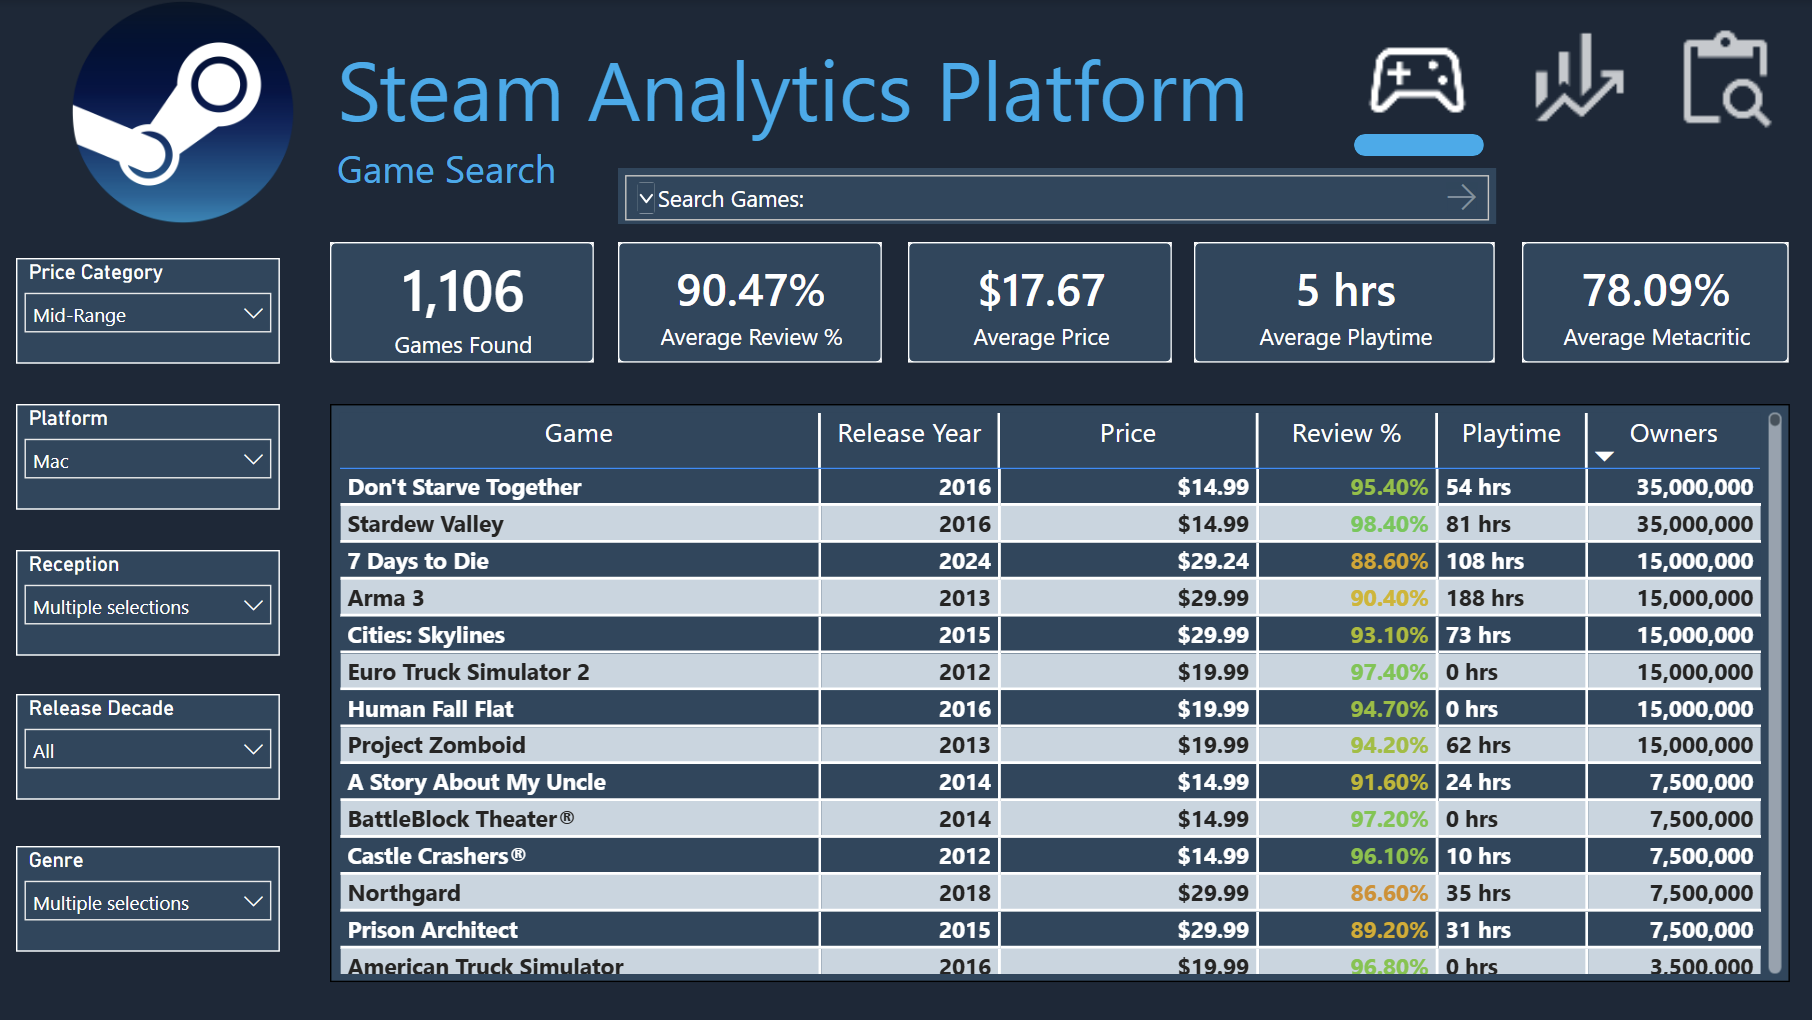

The dashboard page shown, as its layout file describes it:
{"tool":"powerbi","page":{"name":"Game Search","canvas":[1280,720],"ordinal":0},"visuals":[{"type":"textbox","box":[232.6,16.9,1022,142.4],"z":0},{"type":"slicer","fields":{"Values":["games_gold.price_bucket"]},"box":[11.3,170.6,186.1,74.7],"z":1000},{"type":"slicer","fields":{"Values":["games_gold.release_decade"]},"box":[11.3,506.1,186.1,74.7],"z":2000},{"type":"slicer","fields":{"Values":["games_gold.playtime_bucket"]},"box":[11.3,617.4,186.1,74.7],"z":3000},{"type":"slicer","fields":{"Values":["games_gold.review_category"]},"box":[11.3,397.5,186.1,74.7],"z":4000},{"type":"slicer","fields":{"Values":["platforms.Platform"]},"box":[11.3,284.8,186.1,74.7],"z":5000},{"type":"cardVisual","fields":{"Data":["games_gold.Games Found"]},"box":[232.6,170.6,186.1,86],"z":6000},{"type":"cardVisual","fields":{"Data":["games_gold.Average Review %"]},"box":[435.6,170.6,186.1,86],"z":7000},{"type":"cardVisual","fields":{"Data":["games_gold.Average Price"]},"box":[640,170.6,186.1,86],"z":8000},{"type":"cardVisual","fields":{"Data":["games_gold.Average Playtime (hrs)"]},"box":[841.6,170.6,212.9,86],"z":9000},{"type":"cardVisual","fields":{"Data":["games_gold.Average Metacritic"]},"box":[1072.8,170.6,188.9,86],"z":10000},{"type":"image","box":[0,0,258,157.9],"z":11000},{"type":"tableEx","fields":{"Values":["games_gold.game_name","games_gold.price","games_gold.Average Review %","games_gold.Average Playtime (hrs)","games_gold.release_year","games_gold.estimated_owner_midpoint"]},"box":[232.6,284.8,1029.1,407.4],"z":12000},{"type":"textSlicer","fields":{"Values":["games_gold.game_name"]},"box":[435.6,118.4,618.9,39.5],"z":12001},{"type":"image","box":[960,16.9,78,78.9],"z":12002},{"type":"image","box":[1072.8,16.9,78,78],"z":12003},{"type":"shape","box":[954.4,94,91.6,15.5],"z":12005},{"type":"image","box":[1177.1,18.3,78,78],"z":12006}]}

Visuals, with their boxes in screenshot pixels (x1, y1, x2, y2), scaled from the page's 1280x720 canvas onto the 1812x1020 screenshot:
textbox: {"left": 329, "top": 24, "right": 1776, "bottom": 226}
slicer - games_gold.price_bucket: {"left": 16, "top": 242, "right": 279, "bottom": 348}
slicer - games_gold.release_decade: {"left": 16, "top": 717, "right": 279, "bottom": 823}
slicer - games_gold.playtime_bucket: {"left": 16, "top": 875, "right": 279, "bottom": 980}
slicer - games_gold.review_category: {"left": 16, "top": 563, "right": 279, "bottom": 669}
slicer - platforms.Platform: {"left": 16, "top": 403, "right": 279, "bottom": 509}
cardVisual - games_gold.Games Found: {"left": 329, "top": 242, "right": 593, "bottom": 364}
cardVisual - games_gold.Average Review %: {"left": 617, "top": 242, "right": 880, "bottom": 364}
cardVisual - games_gold.Average Price: {"left": 906, "top": 242, "right": 1169, "bottom": 364}
cardVisual - games_gold.Average Playtime (hrs): {"left": 1191, "top": 242, "right": 1493, "bottom": 364}
cardVisual - games_gold.Average Metacritic: {"left": 1519, "top": 242, "right": 1786, "bottom": 364}
image: {"left": 0, "top": 0, "right": 365, "bottom": 224}
tableEx - games_gold.game_name x games_gold.price: {"left": 329, "top": 403, "right": 1786, "bottom": 981}
textSlicer - games_gold.game_name: {"left": 617, "top": 168, "right": 1493, "bottom": 224}
image: {"left": 1359, "top": 24, "right": 1469, "bottom": 136}
image: {"left": 1519, "top": 24, "right": 1629, "bottom": 134}
shape: {"left": 1351, "top": 133, "right": 1481, "bottom": 155}
image: {"left": 1666, "top": 26, "right": 1777, "bottom": 136}
